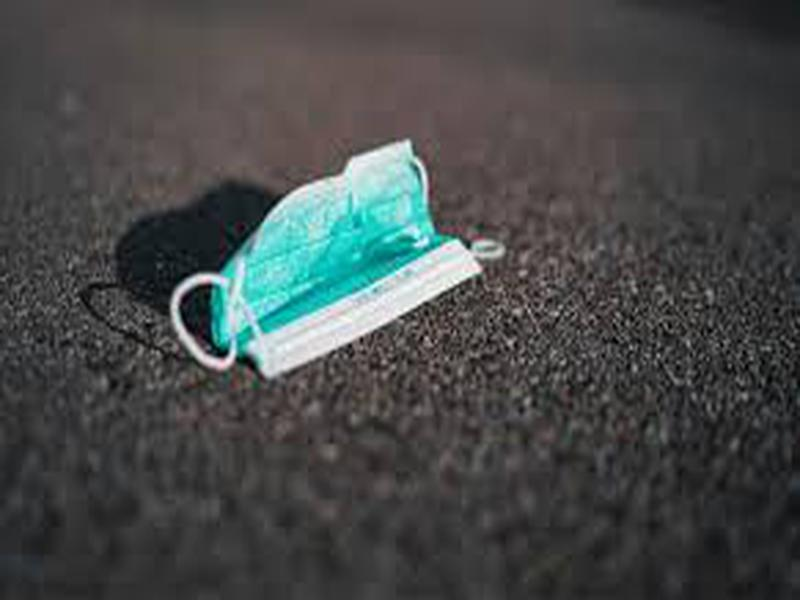mask: (159, 138, 514, 382)
